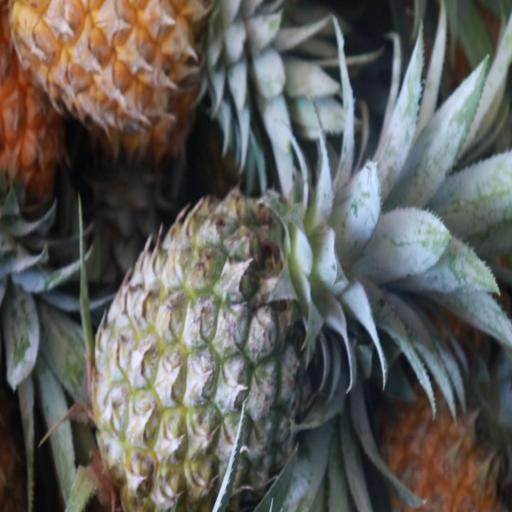------------------------------: (96, 192, 322, 512)
